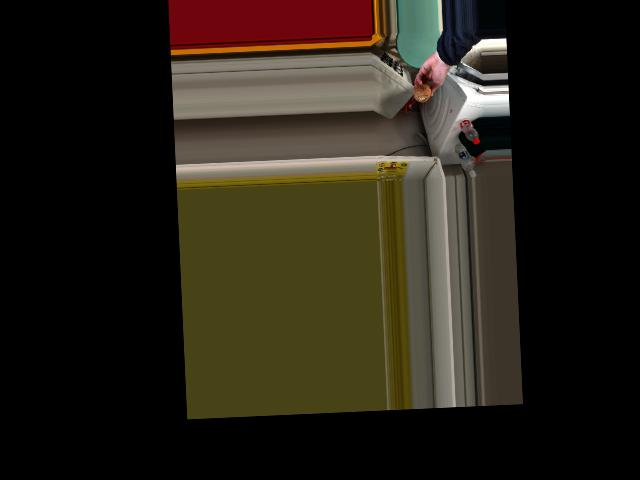sweet_potato: (415, 81, 431, 101)
